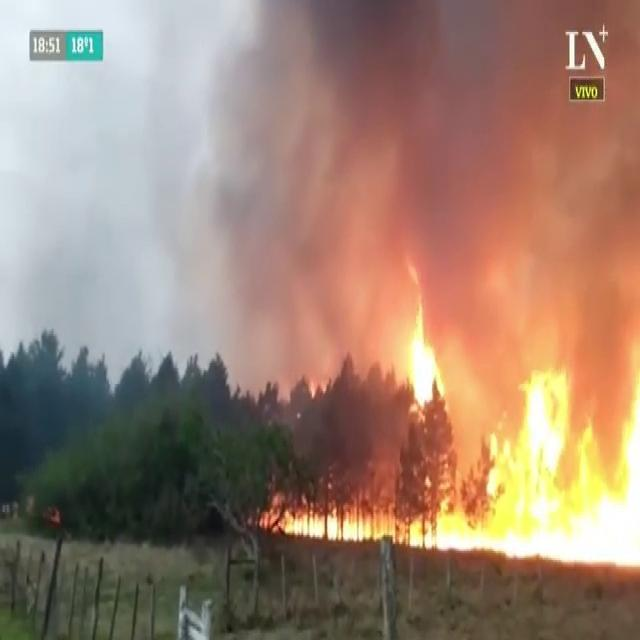Fire: (300, 359, 638, 571), (480, 330, 638, 576), (368, 494, 485, 570), (253, 482, 350, 564), (405, 300, 446, 412)
Smoke: (134, 19, 378, 356), (2, 54, 138, 432), (0, 0, 1, 2)
